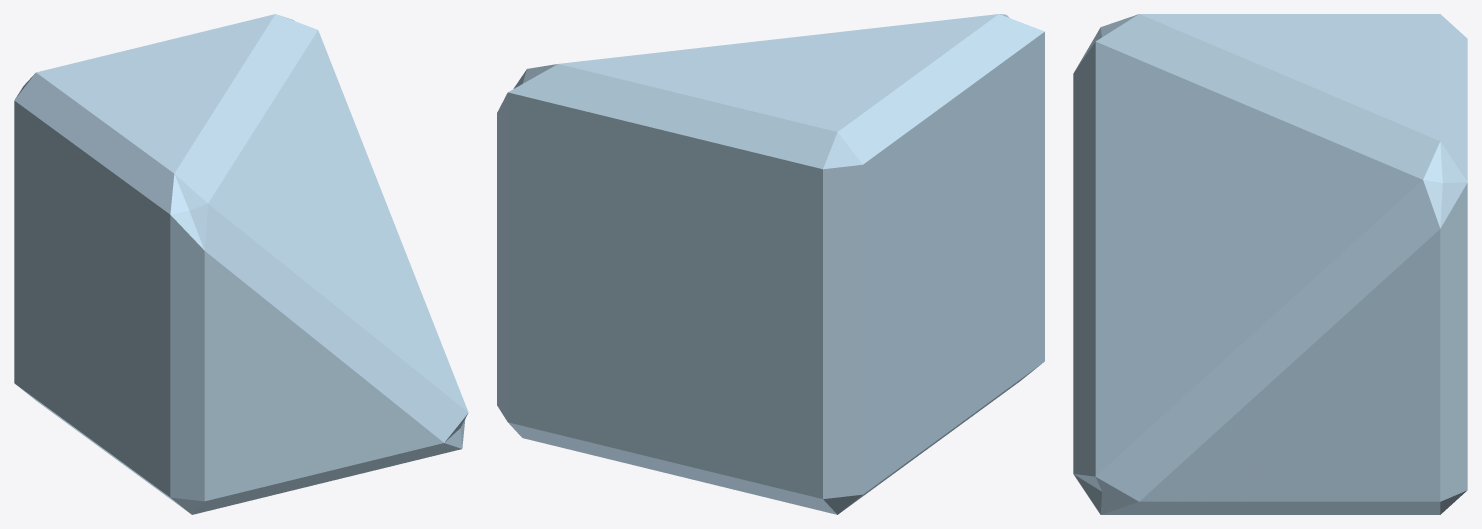
The model's file is R4B_InnerCorner.glb.
The picture shows the model from 3 angles, left to right: view 1: azimuth 30°, elevation 25°; view 2: azimuth 150°, elevation 25°; view 3: azimuth 270°, elevation 25°; orthographic projection. The views are drawn at different scales.
Parts seen in each view (by area): view 1: R4B_InnerCorner; view 2: R4B_InnerCorner; view 3: R4B_InnerCorner.
Part boxes in pixels (left/top/right/bottom): R4B_InnerCorner: left=14, top=14, right=468, bottom=514; R4B_InnerCorner: left=497, top=14, right=1044, bottom=514; R4B_InnerCorner: left=1073, top=14, right=1467, bottom=514.
Size of the model in its own units: 0.52 by 0.52 by 0.52.
